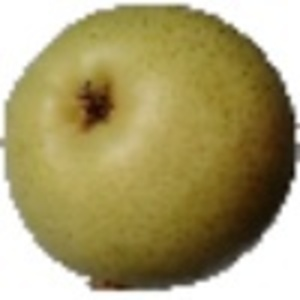pera: (1, 2, 300, 294)
